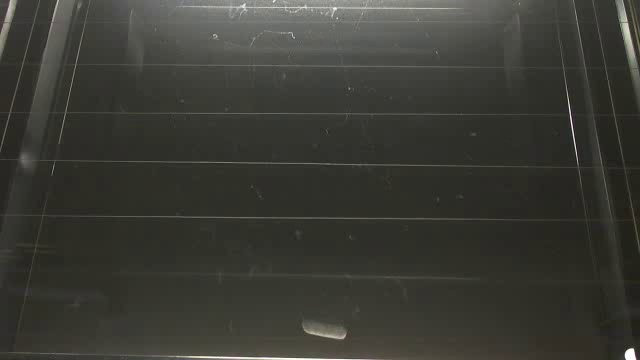Alfa: (299, 313, 349, 342)
